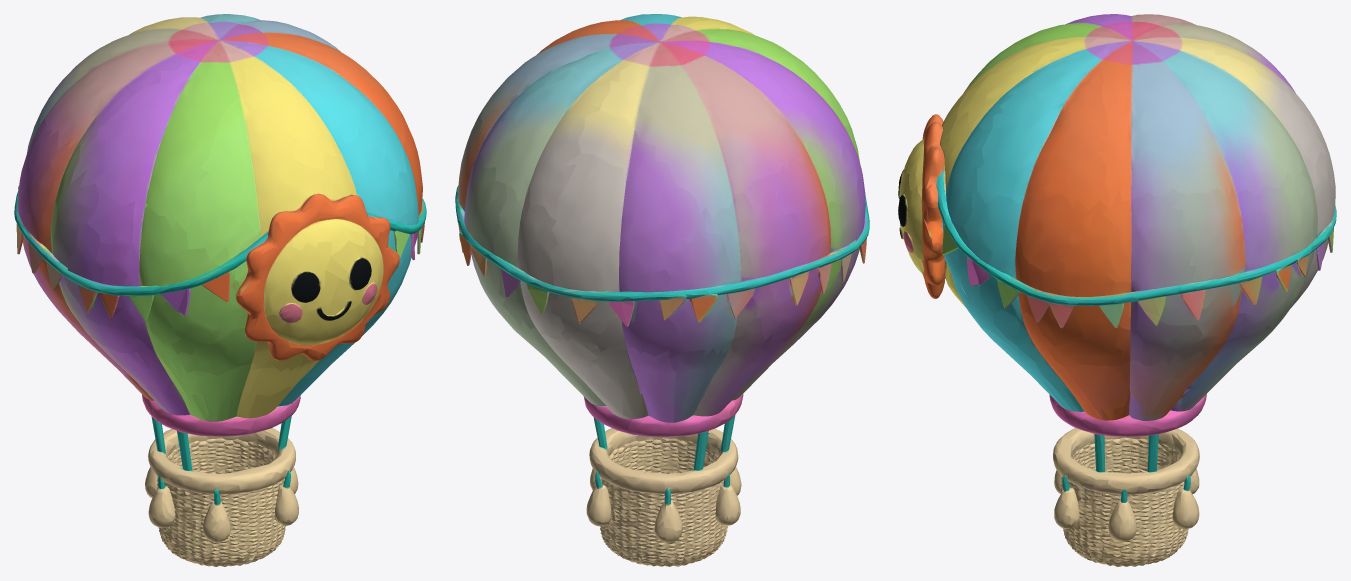
The model's file is meshy-1795797341190.glb.
3 views of the same model, side by side, from view 1: azimuth 30°, elevation 25°; view 2: azimuth 150°, elevation 25°; view 3: azimuth 270°, elevation 25° (orthographic).
Size of the model in its own units: 1.4 by 1.9 by 1.49.
1 material, 1 textured.
